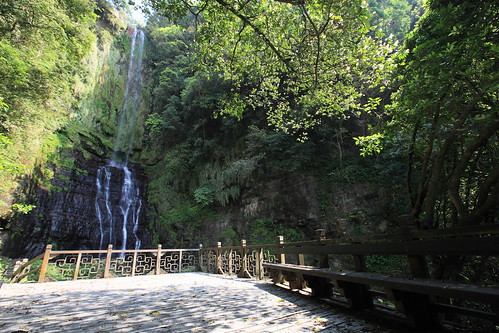wufengciWaterfall: (78, 19, 168, 244)
